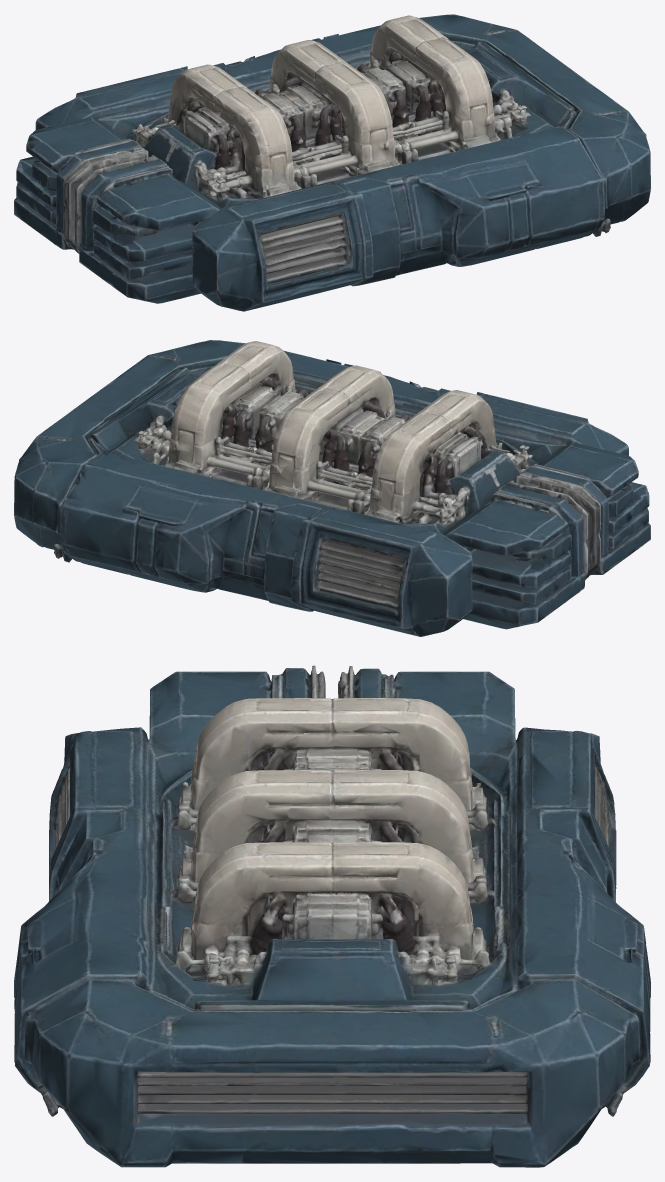
File: arc-longshot-railback-rich.glb
3 views of the same model, one above another, from view 1: azimuth 30°, elevation 25°; view 2: azimuth 150°, elevation 25°; view 3: azimuth 270°, elevation 25° (orthographic). The views are drawn at different scales.
Parts seen in each view (by area): view 1: chassis; view 2: chassis; view 3: chassis.
Part boxes in pixels (x1=…): chassis: x1=14, y1=14, x2=650, y2=311; chassis: x1=14, y1=340, x2=650, y2=636; chassis: x1=14, y1=665, x2=650, y2=1167.
Bounding box in the file's own units: 0.9899 × 0.2737 × 0.7291.
1 material, 1 textured.
